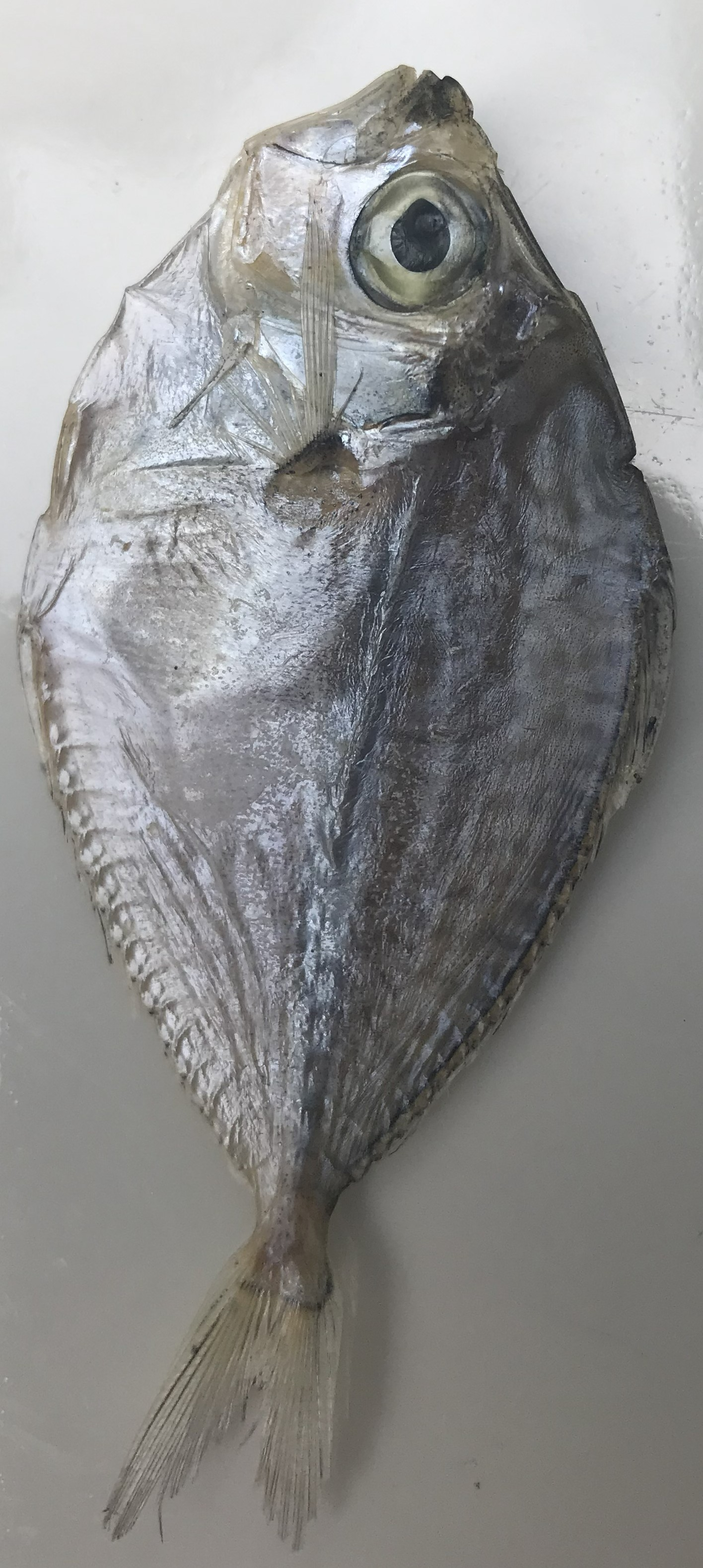sap_sap_dried: (0, 0, 703, 1179), (283, 991, 326, 1063)
